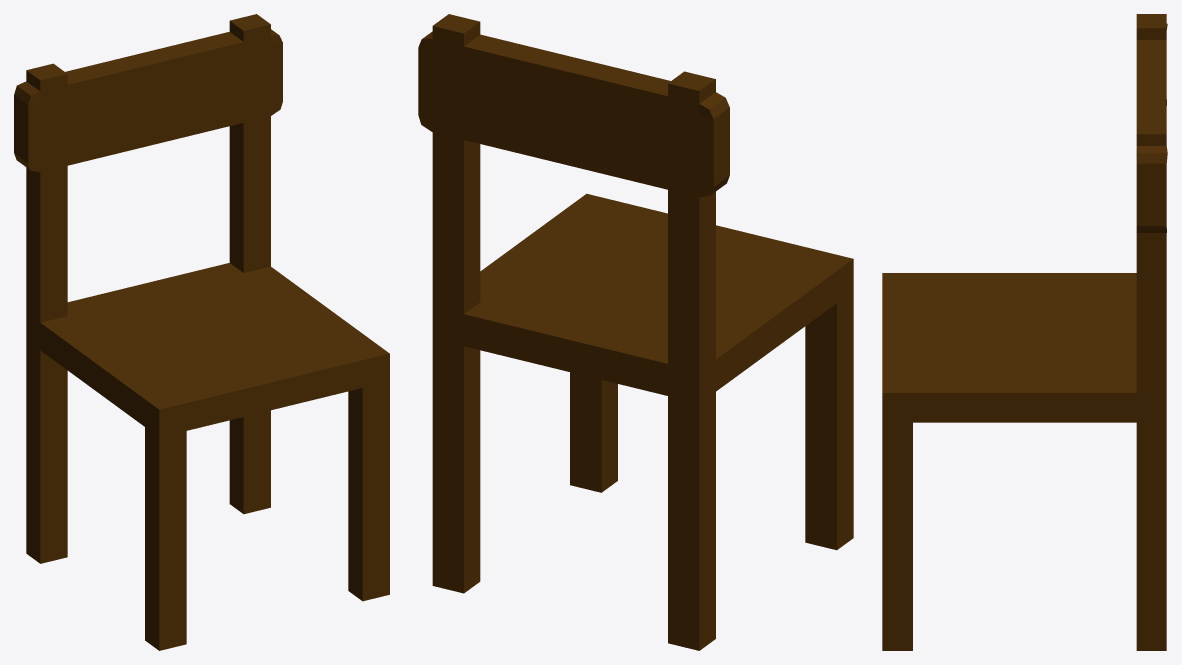
Rendered from silla.fbx.
3 renders of one model, left to right at view 1: azimuth 30°, elevation 25°; view 2: azimuth 150°, elevation 25°; view 3: azimuth 270°, elevation 25°, orthographic. The views are drawn at different scales.
Parts seen in each view (by area): view 1: Chair; view 2: Chair; view 3: Chair.
Boxes of the visible parts, x1=… form: Chair: x1=14, y1=14, x2=389, y2=650; Chair: x1=418, y1=14, x2=853, y2=650; Chair: x1=882, y1=14, x2=1167, y2=650.
Bounding box in the file's own units: 221 × 401 × 201.
